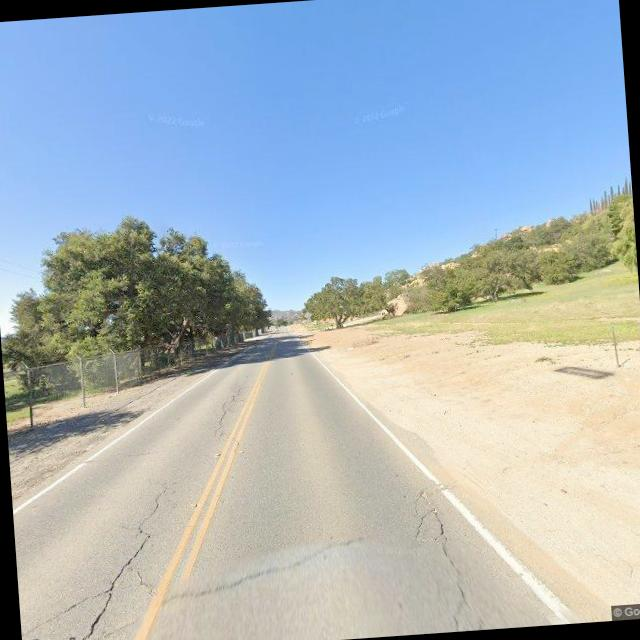crack: (18, 480, 181, 640), (158, 539, 359, 603), (405, 474, 465, 620), (208, 377, 250, 442)
